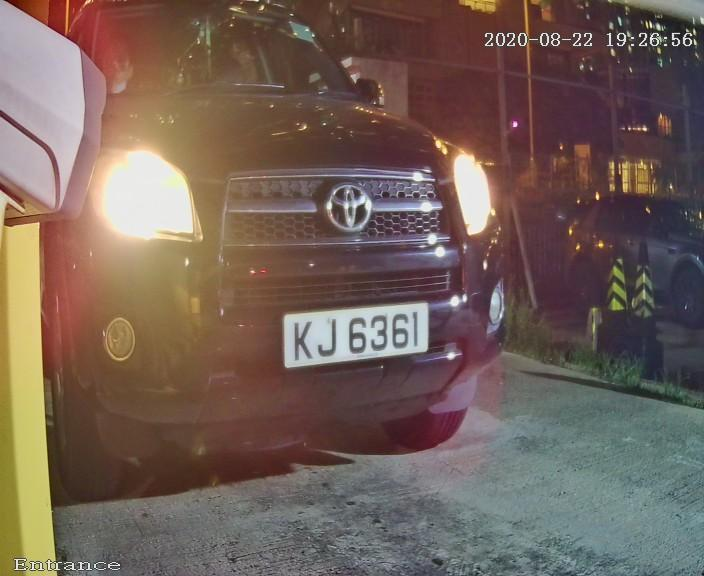Car: (10, 21, 544, 484)
License Plate: (277, 296, 437, 373)
